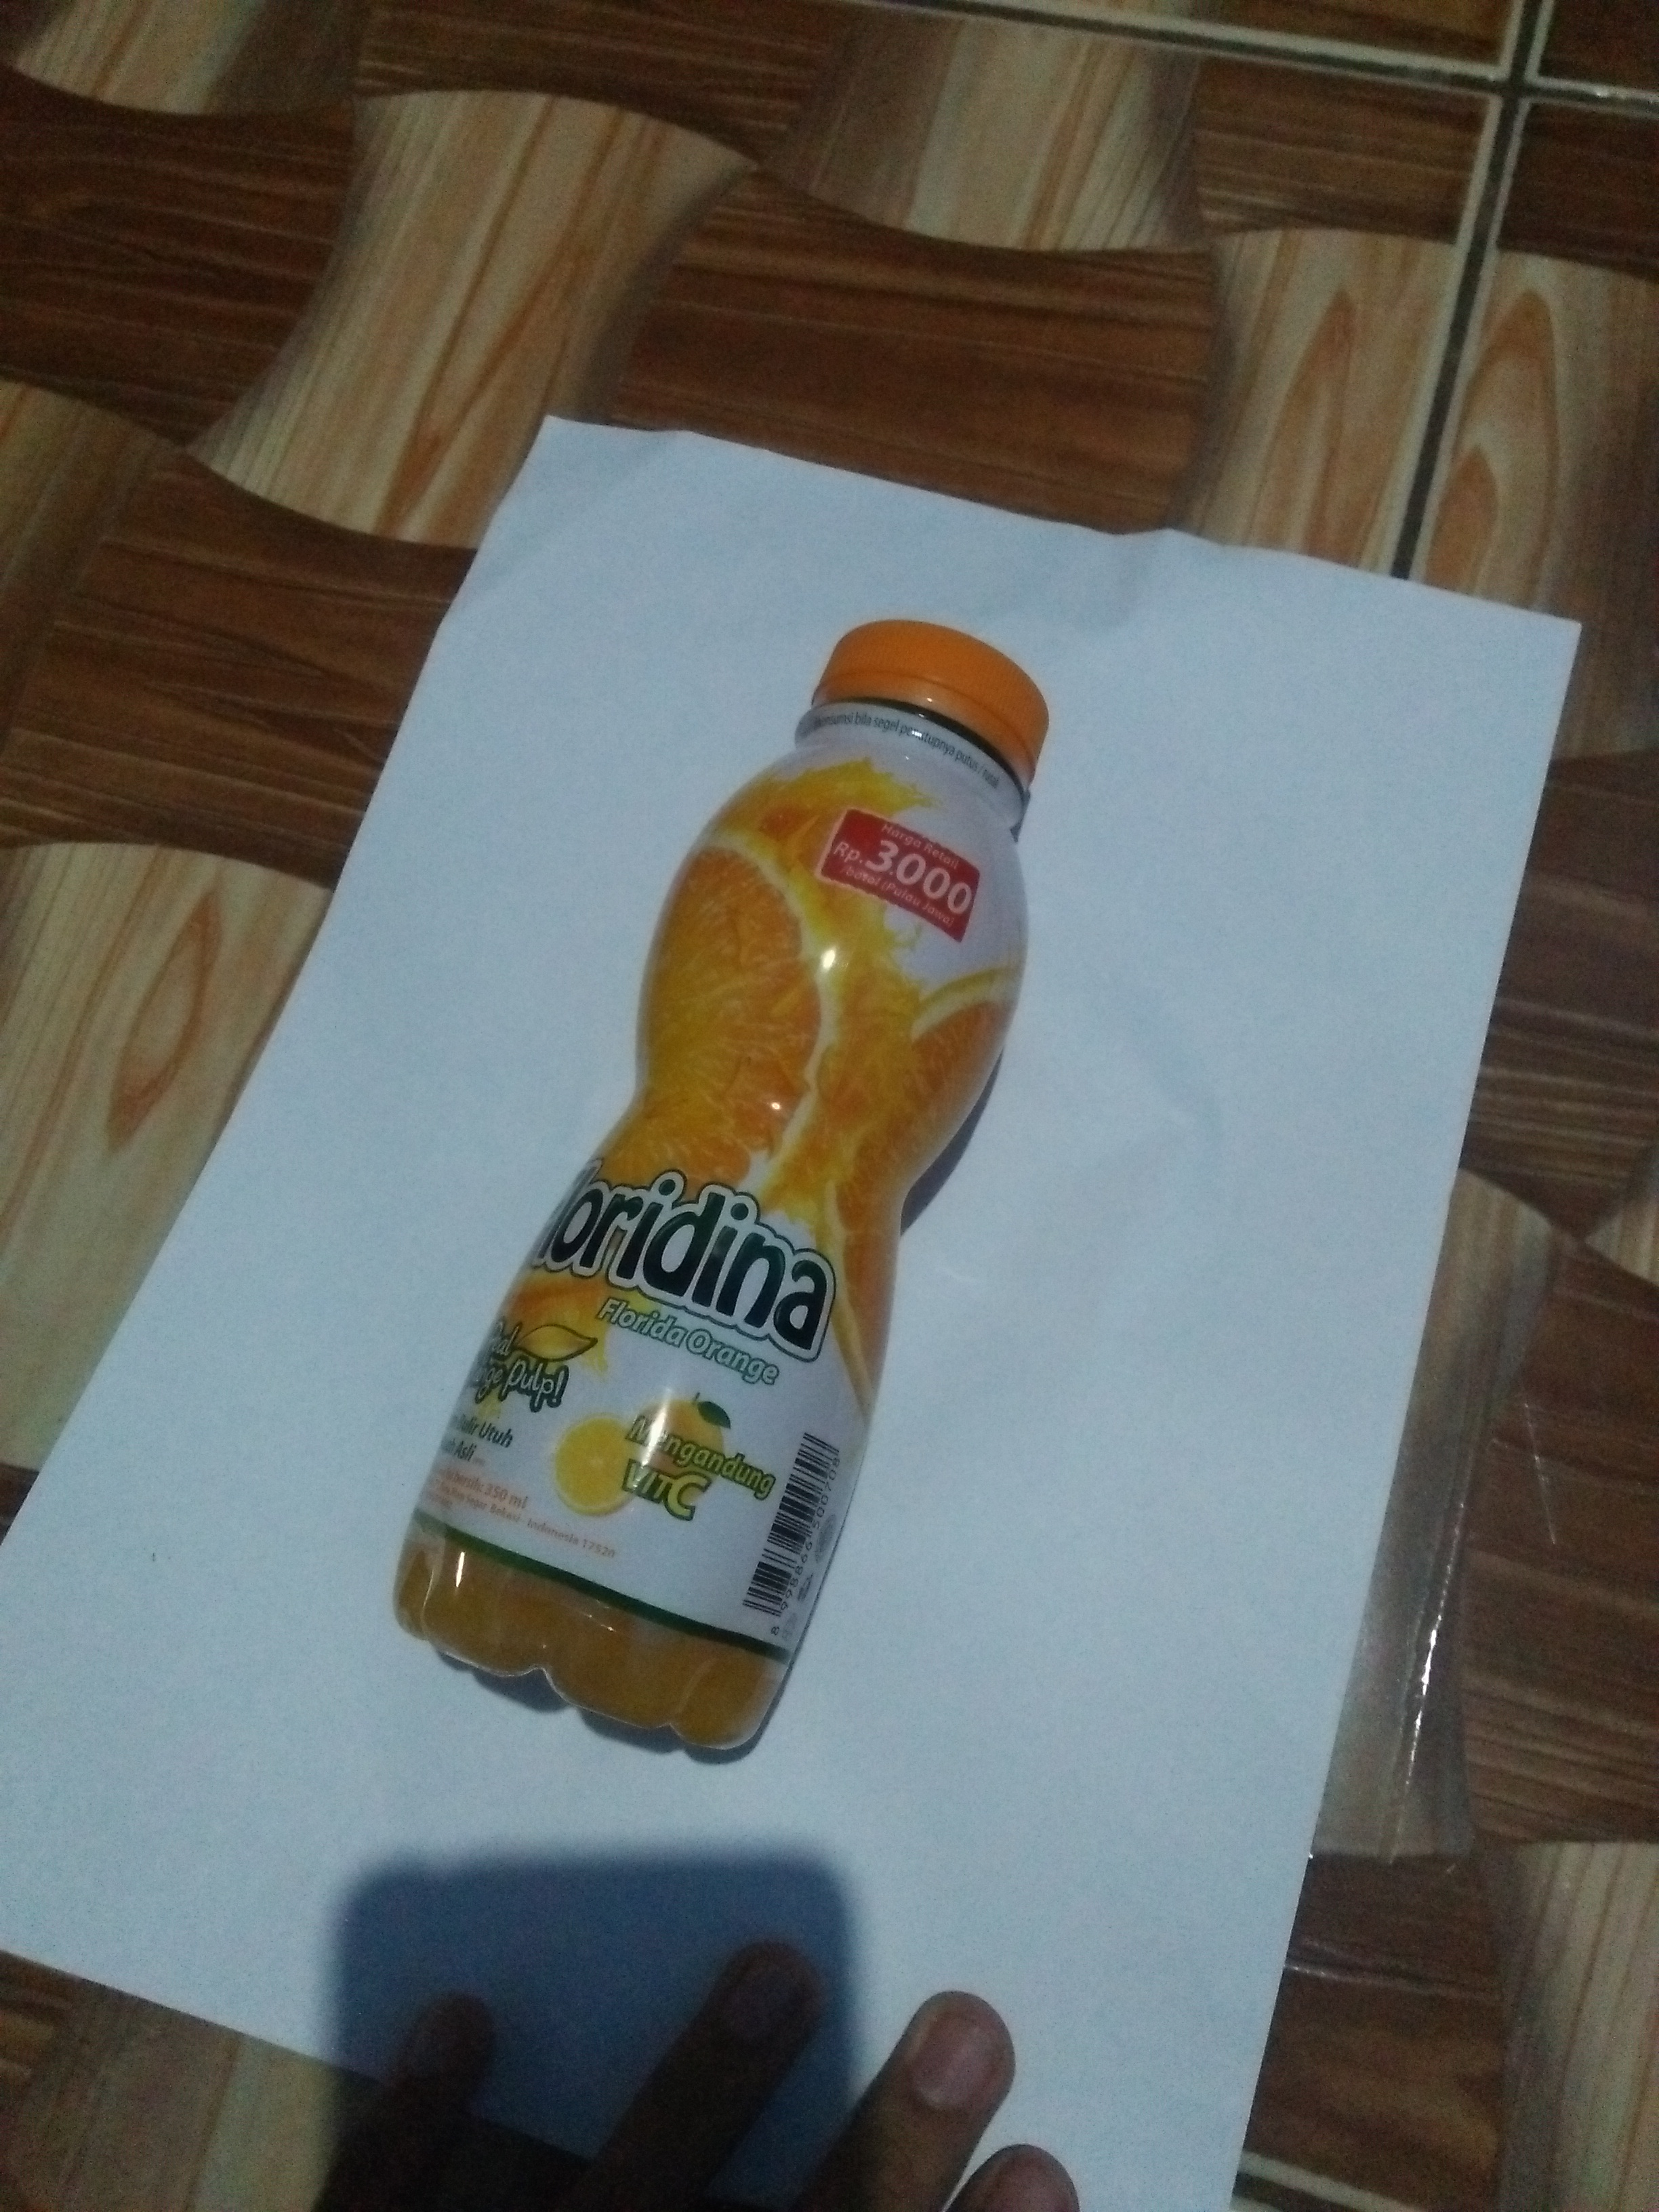Floridina: (389, 615, 1066, 1770)
